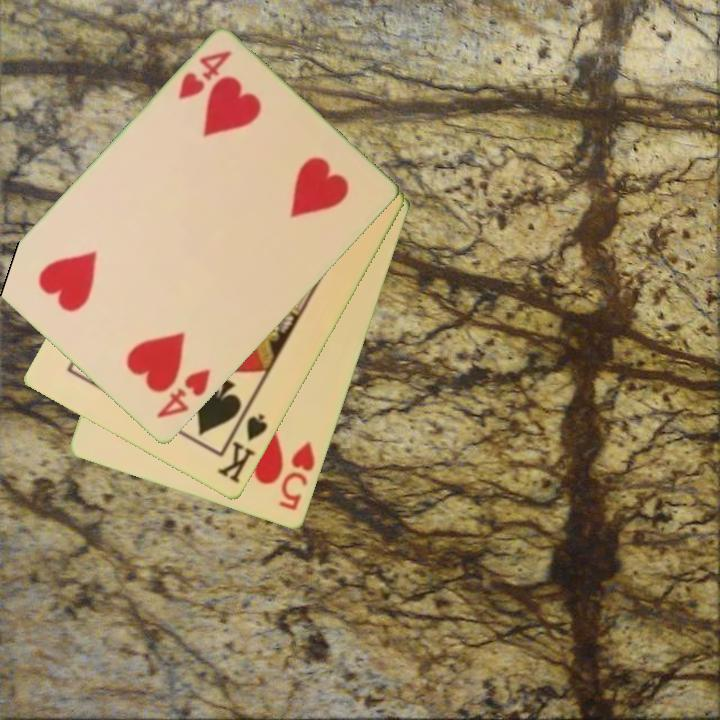4h: (152, 365, 214, 423), (174, 47, 235, 103)
5h: (275, 438, 318, 514)
Ks: (213, 410, 271, 487)
